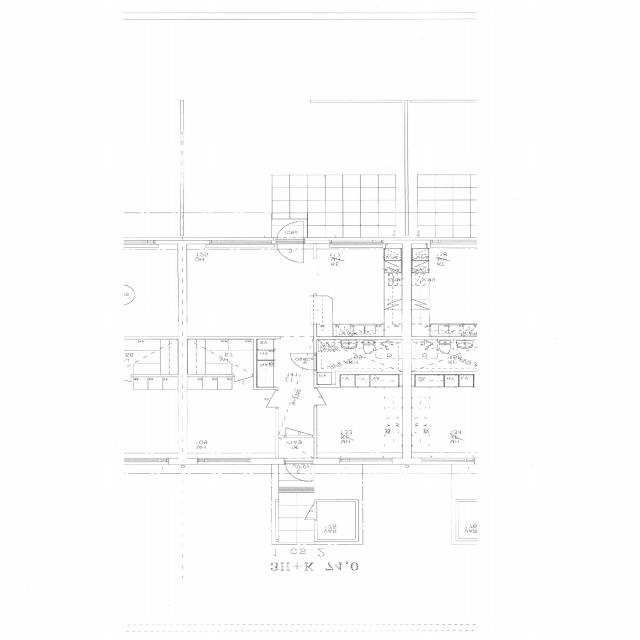door: (277, 218, 304, 244), (286, 458, 312, 483), (277, 238, 304, 262), (286, 417, 313, 437), (291, 502, 317, 520), (290, 353, 317, 370), (314, 388, 340, 405), (252, 391, 279, 407), (235, 375, 252, 389)
